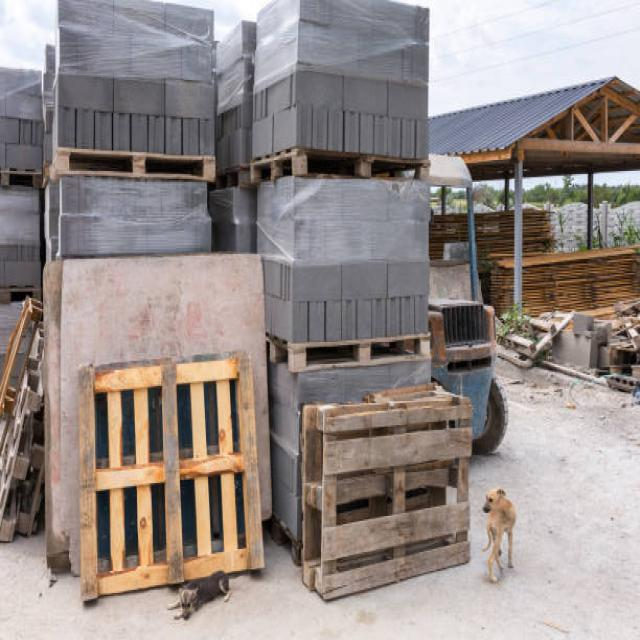Wooden-Pallets: (79, 349, 264, 598)
